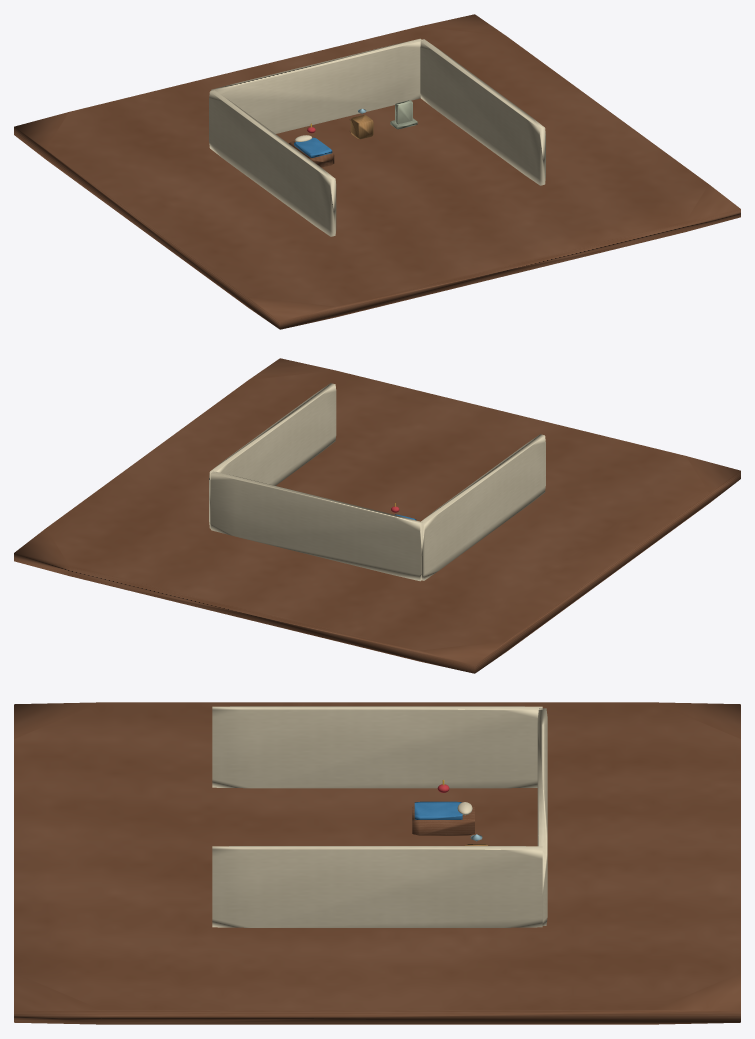
Rendered from elin_memory_room.glb.
3 views of the same model, one above another, from view 1: azimuth 30°, elevation 25°; view 2: azimuth 150°, elevation 25°; view 3: azimuth 270°, elevation 25° (orthographic). The views are drawn at different scales.
Visible parts, largest first — view 1: elin_memory_room_StaticBatch; view 2: elin_memory_room_StaticBatch; view 3: elin_memory_room_StaticBatch.
Part boxes in pixels (<box>): elin_memory_room_StaticBatch: <box>14,14,740,329</box>; elin_memory_room_StaticBatch: <box>14,358,740,673</box>; elin_memory_room_StaticBatch: <box>14,702,740,1024</box>.
Bounding box in the file's own units: 22 × 3.1 × 22.
Materials: 1 (1 with a texture image).
